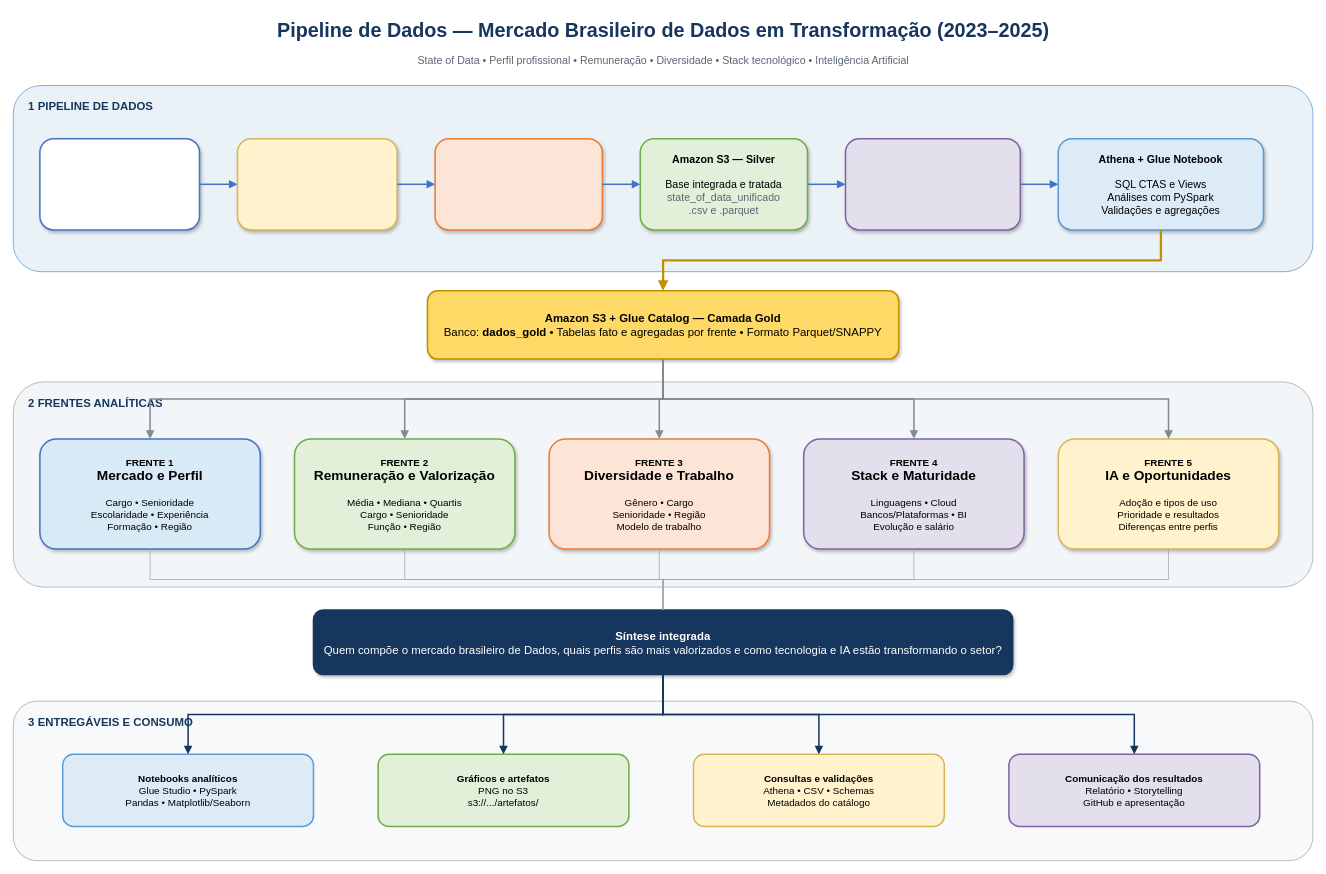
The diagram is 1326 pixels wide and 874 high, and some of its shapes have lost their labels. The shapes that lost their labels are listed below. From the top down, each one's centre as x and y in pixels, then its label:
At pixel 120 185: "Fonte dos dados State of Data 2023 • 2024 • 2025 Arquivos CSV originais".
At pixel 317 185: "Amazon S3 — Bronze Dados brutos preservados s3://.../bronze/".
At pixel 519 185: "AWS Glue — PySpark Limpeza e padronização Unificação dos anos Tipos, IDs e flags".
At pixel 933 185: "Glue Data Catalog Banco: dados_catalogados Tabela: parquet Schema e metadados".
